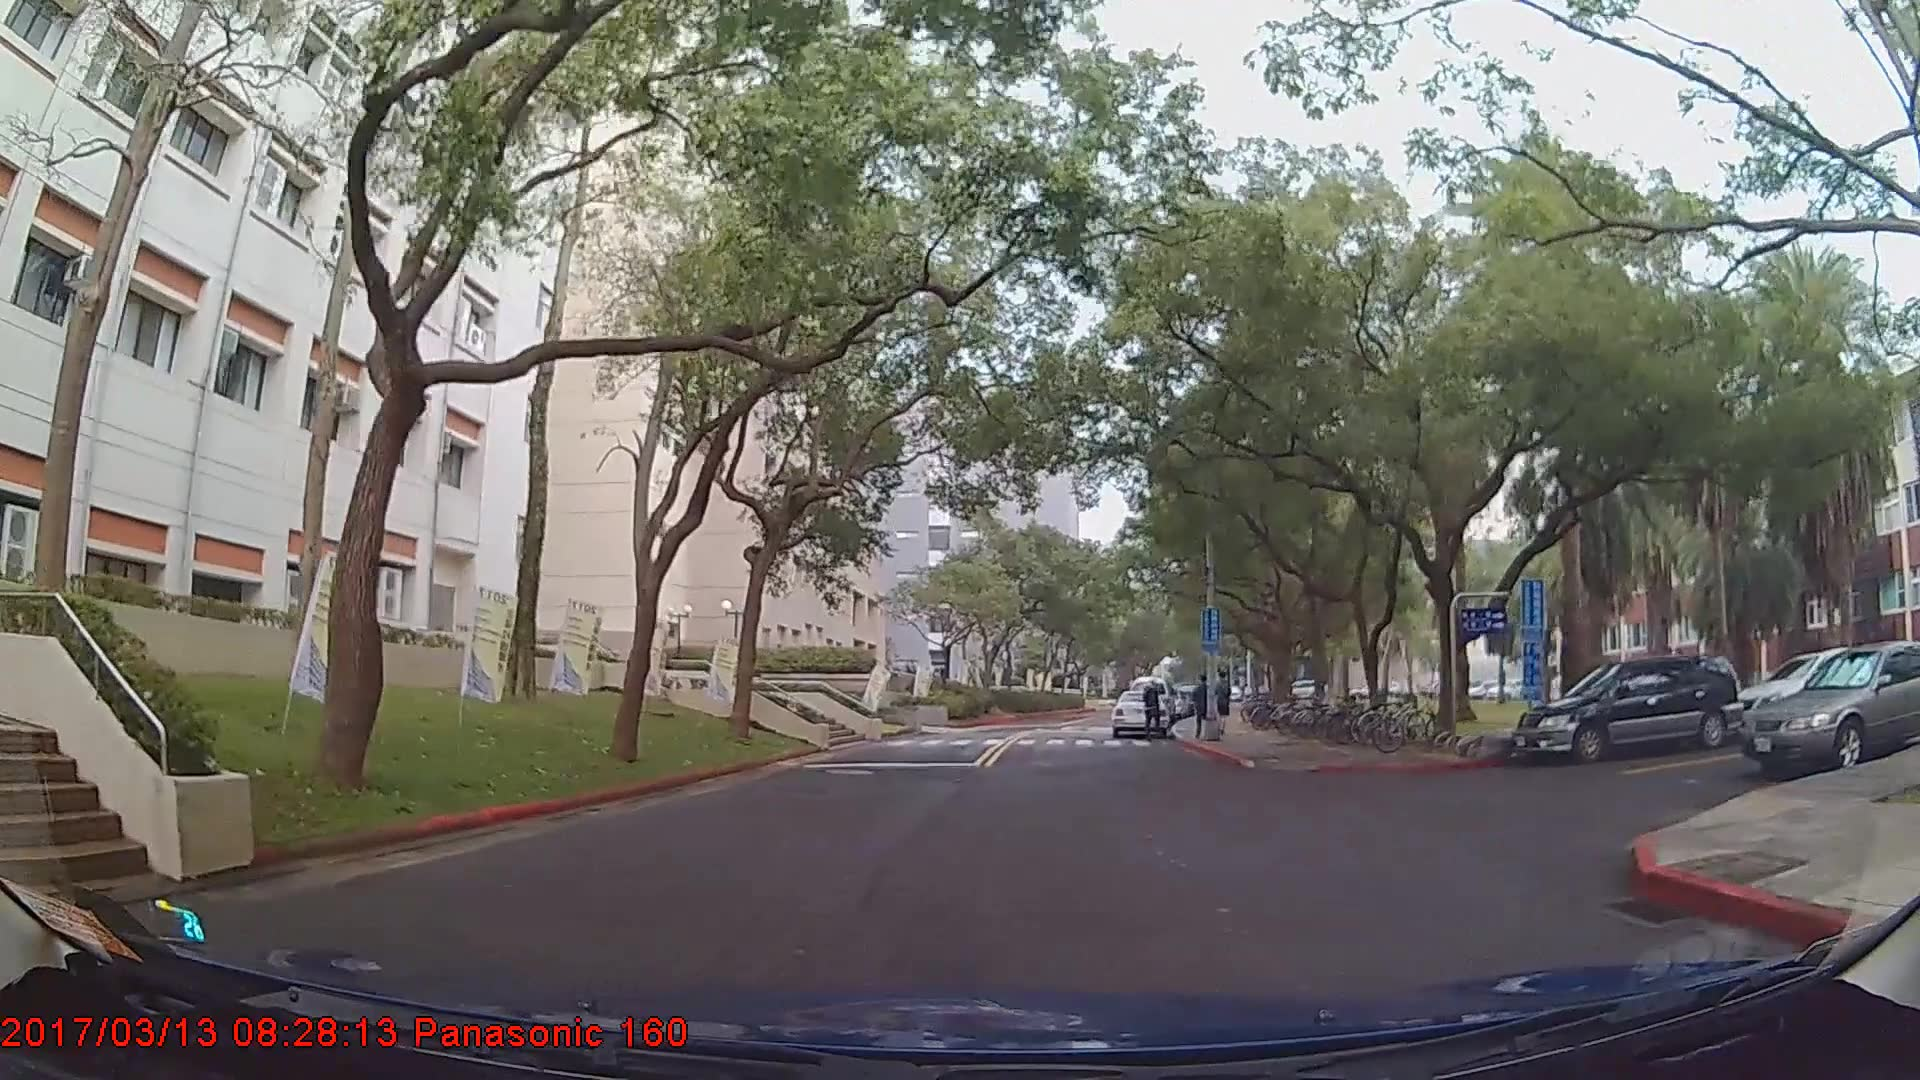pedestrian: (1194, 676, 1216, 738), (1144, 680, 1164, 744)
vehicle: (1512, 652, 1740, 764), (1739, 641, 1920, 781), (1109, 688, 1170, 736)
